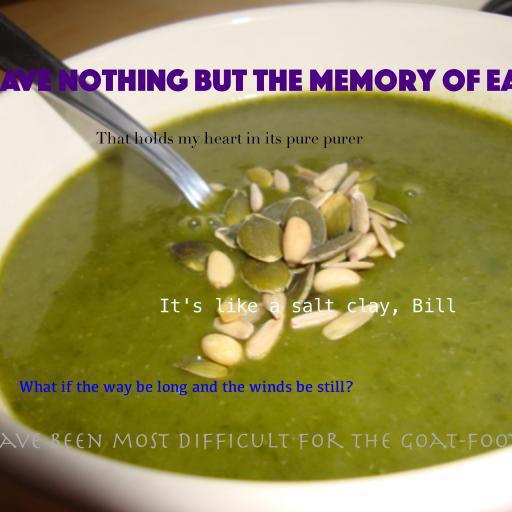Didot: (95, 131, 363, 149)
Herculanum: (0, 432, 512, 450)
Kefa: (18, 380, 354, 396)
Menlo: (158, 298, 456, 317)
Phosphate: (0, 69, 512, 95)
